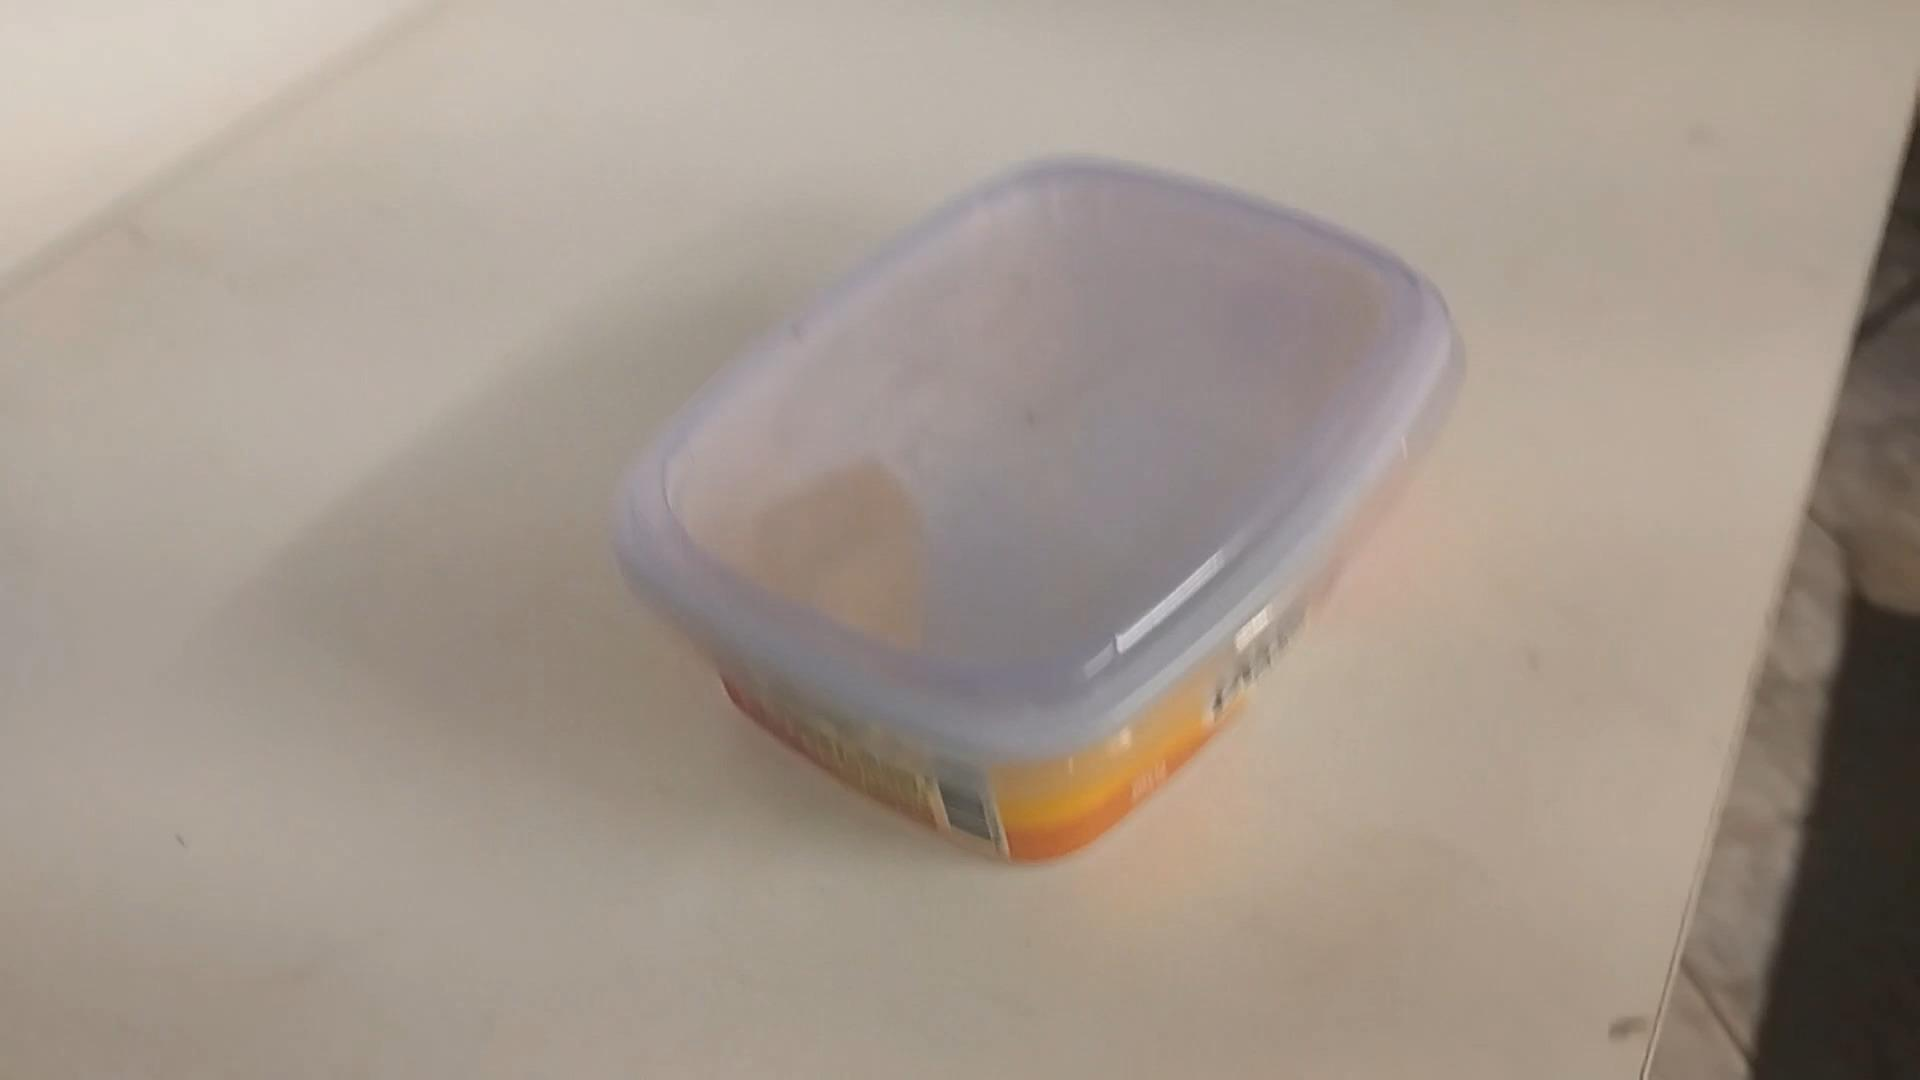butter: (603, 160, 1462, 869)
